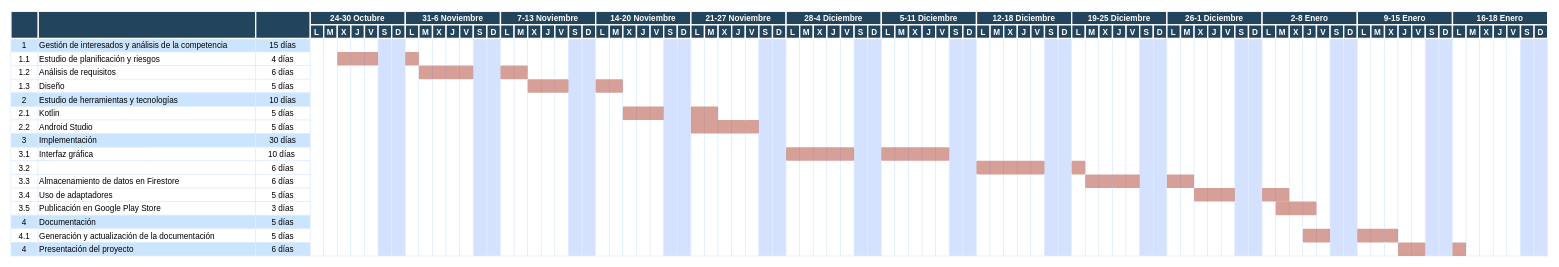
This 1559x267 diagram has some shape labels left out. Here are the shapes that lost their labels. From the top down, the centre of each, then its label:
[146,24]: Nombre de la tarea
[282,24]: Duración
[146,167]: Autenticación y gestión de perfiles
